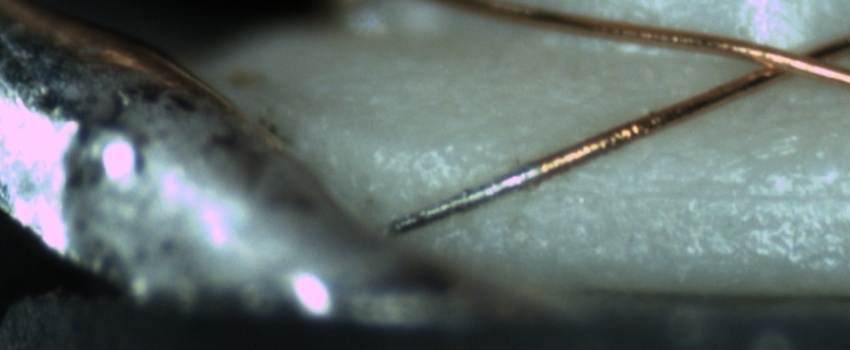CL: (731, 35, 849, 86)
DL: (624, 158, 850, 228)
TS: (383, 159, 540, 237)
